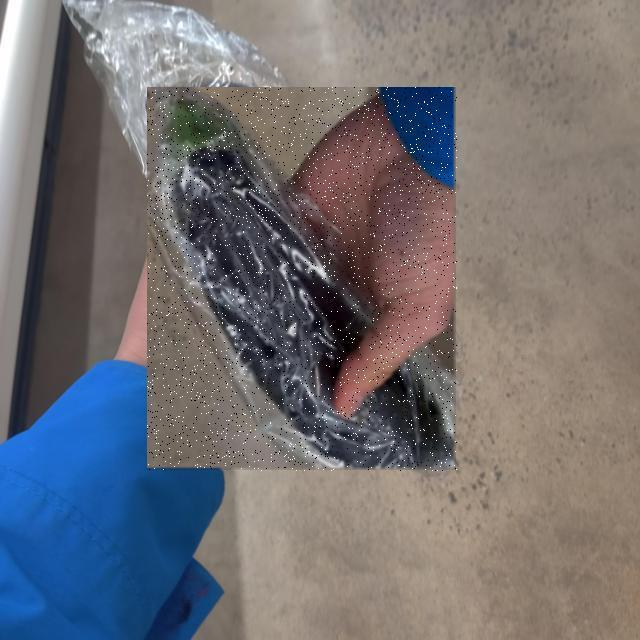Egg Plant: (148, 88, 458, 472)
